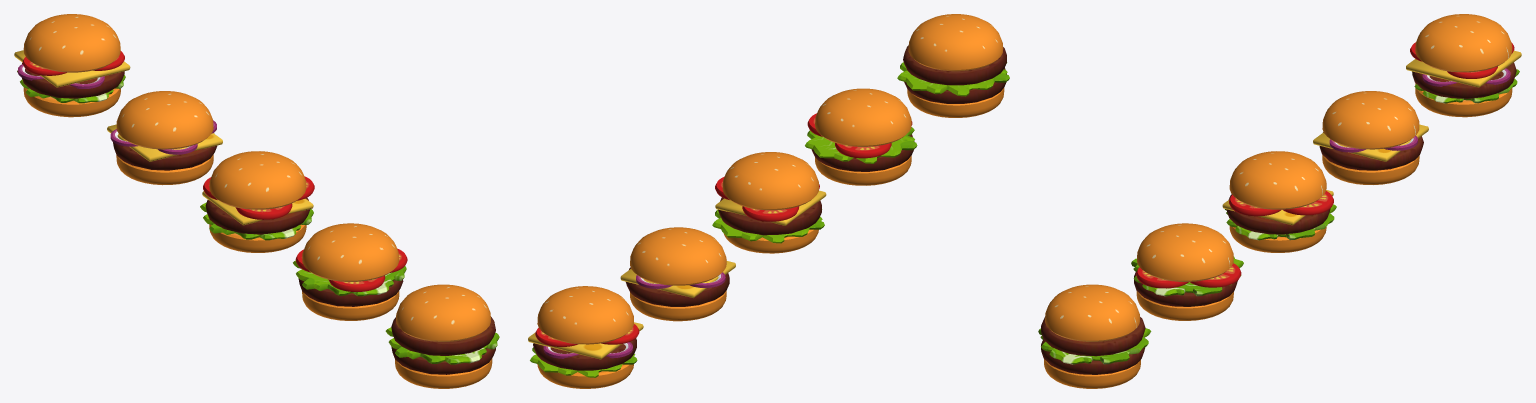
The model's file is burgers.fbx.
3 renders of one model, left to right at view 1: azimuth 30°, elevation 25°; view 2: azimuth 150°, elevation 25°; view 3: azimuth 330°, elevation 25°, orthographic.
Visible parts, largest first — view 1: burger_1_lod0, burger_3_lod0, burger_5_lod0, burger_2_lod0, burger_4_lod0; view 2: burger_1_lod0, burger_5_lod0, burger_3_lod0, burger_2_lod0, burger_4_lod0; view 3: burger_1_lod0, burger_5_lod0, burger_3_lod0, burger_2_lod0, burger_4_lod0.
Part boxes in pixels (left/top/right/bottom): burger_1_lod0: left=385, top=284, right=499, bottom=388; burger_3_lod0: left=200, top=151, right=314, bottom=252; burger_5_lod0: left=14, top=14, right=130, bottom=117; burger_2_lod0: left=293, top=223, right=407, bottom=320; burger_4_lod0: left=107, top=91, right=222, bottom=185; burger_1_lod0: left=897, top=14, right=1009, bottom=117; burger_5_lod0: left=528, top=286, right=643, bottom=388; burger_3_lod0: left=712, top=152, right=826, bottom=253; burger_2_lod0: left=805, top=88, right=917, bottom=185; burger_4_lod0: left=620, top=227, right=735, bottom=321; burger_1_lod0: left=1038, top=284, right=1151, bottom=388; burger_5_lod0: left=1406, top=14, right=1521, bottom=117; burger_3_lod0: left=1222, top=151, right=1336, bottom=252; burger_2_lod0: left=1131, top=223, right=1243, bottom=320; burger_4_lod0: left=1313, top=91, right=1428, bottom=184.
Size of what is drawn, in the model's own units: 0.6372 by 0.4649 by 4.64.
